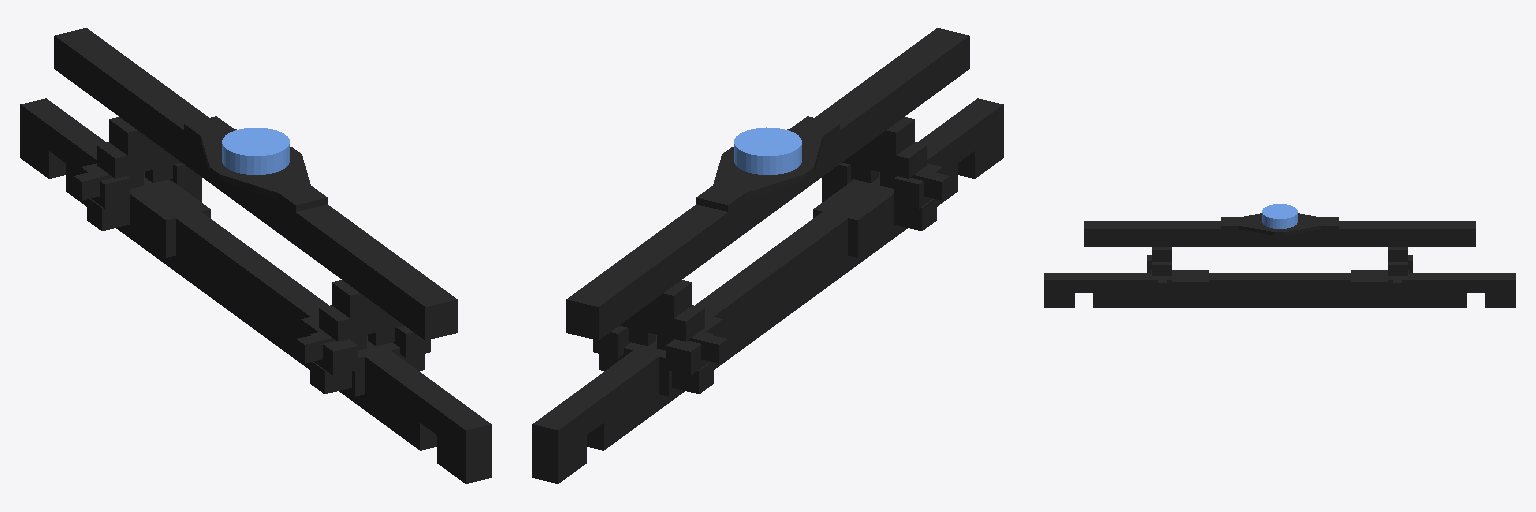
URDF robot description (tool__delta_assembly_task):
<?xml version="1.0" ?>
<robot name="tool__delta_assembly_task">

    <!-- Import Rviz colors -->
    <material name="Grey">
        <color rgba="0.2 0.2 0.2 1."/>
    </material>
    <material name="Orange">
        <color rgba="1.0 0.423529411765 0.0392156862745 0.5"/>
    </material>
    <material name="Blue">
        <color rgba="0.5 0.7 1.0 0.5"/>
    </material>
    <material name="beam_color">
        <color rgba="0.72 0.60 0.30 1.0"/>
    </material>


    <!-- Joint from Base to FT-Sensor Below -->
    <joint name="joint_ft" type="fixed">
        <parent link="base"/>
        <child link="ft_sensor"/>
        <origin rpy="0 0 0 " xyz="0.0 0.0 0.0"/>
        <dynamics damping="0.5"/>
    </joint>

    <!-- Joint from FT-Sensor to Gripper-Beam Below -->
    <joint name="joint_gripper" type="fixed">
        <parent link="ft_sensor"/>
        <child link="gripper_double_notch_beam"/>
        <origin rpy="0 0 0 " xyz="0.0 0.0 0.0"/>
        <dynamics damping="0.5"/>
    </joint>

    <!-- Joint from Gripper-Beam to Virtual Member Below -->
    <joint name="joint_member" type="fixed">
        <parent link="gripper_double_notch_beam"/>
        <child link="member"/>
        <!-- Offset 40 mm (beam half-depth) + 155 mm (beam offset from world origin)-->
        <origin rpy="0 0 0 " xyz="0.0 0.0 -0.195"/>
        <dynamics damping="0.5"/>
    </joint>


    <!-- Virtual Base Link -->
    <link name="base">
      <inertial>
          <origin rpy="0 0 0" xyz="0 0 0"/>
          <mass value="0.001"/>
          <inertia ixx="0.001" ixy="0" ixz="0" iyy="0.001" iyz="0" izz="0.001"/>
      </inertial>
    </link>

    <!-- Virtual Member Link to Computer Distance to Target -->
    <link name="member">
      <inertial>
          <origin rpy="0 0 0" xyz="0 0 0"/>
          <mass value="0.01"/>
          <inertia ixx="0.001" ixy="0" ixz="0" iyy="0.001" iyz="0" izz="0.001"/>
      </inertial>
    </link>

    <!-- FT-Sensor Link -->
    <link name="ft_sensor">
    <inertial>
          <mass value="1.964"/>
          <inertia ixx="0.001" ixy="0" ixz="0" iyy="0.001" iyz="0" izz="0.001"/>
    </inertial>
    <visual>
        <material name="Blue"/>
        <geometry>
          <mesh filename="sensor/meshes/visual/ft_sensor.stl"/>
        </geometry>
    </visual>
    <collision>
        <geometry>
          <mesh filename="sensor/meshes/collision/ft_sensor.stl"/>
        </geometry>
    </collision>
    </link>

    <!-- EF Link -->
    <link name="gripper_double_notch_beam">
        <inertial>
            <origin rpy="0 0 0" xyz="0.0 0.0 0.09963736"/>
            <mass value="8.56"/>
            <inertia ixx="0.01" ixy="0" ixz="0" iyy="0.01" iyz="0" izz="0.01"/>
        </inertial>
        <visual>
            <geometry>
                <mesh filename="gripper_double_notch_beam/meshes/visual/gripper_double_notch_beam.stl"/>
            </geometry>
            <material name="Grey"/>
        </visual>
        <collision>
            <geometry>
                <mesh filename="gripper_double_notch_beam/meshes/collision/gripper_00.stl"/>
            </geometry>
        </collision>
        <collision>
            <geometry>
                <mesh filename="gripper_double_notch_beam/meshes/collision/gripper_01.stl"/>
            </geometry>
        </collision>
        <collision>
            <geometry>
                <mesh filename="gripper_double_notch_beam/meshes/collision/gripper_02.stl"/>
            </geometry>
        </collision>
        <collision>
            <geometry>
                <mesh filename="gripper_double_notch_beam/meshes/collision/gripper_03.stl"/>
            </geometry>
        </collision>
        <collision>
            <geometry>
                <mesh filename="gripper_double_notch_beam/meshes/collision/gripper_04.stl"/>
            </geometry>
        </collision>
        <collision>
            <geometry>
                <mesh filename="gripper_double_notch_beam/meshes/collision/gripper_05.stl"/>
            </geometry>
        </collision>
        <collision>
            <geometry>
                <mesh filename="gripper_double_notch_beam/meshes/collision/gripper_06.stl"/>
            </geometry>
        </collision>
        <collision>
            <geometry>
                <mesh filename="gripper_double_notch_beam/meshes/collision/gripper_07.stl"/>
            </geometry>
        </collision>
        <collision>
            <geometry>
                <mesh filename="gripper_double_notch_beam/meshes/collision/gripper_08.stl"/>
            </geometry>
        </collision>
        <collision>
            <geometry>
                <mesh filename="gripper_double_notch_beam/meshes/collision/gripper_09.stl"/>
            </geometry>
        </collision>
        <collision>
            <geometry>
                <mesh filename="gripper_double_notch_beam/meshes/collision/gripper_10.stl"/>
            </geometry>
        </collision>
        <collision>
            <geometry>
                <mesh filename="gripper_double_notch_beam/meshes/collision/gripper_11.stl"/>
            </geometry>
        </collision>
        <collision>
            <geometry>
                <mesh filename="gripper_double_notch_beam/meshes/collision/gripper_12.stl"/>
            </geometry>
        </collision>
        <collision>
            <geometry>
                <mesh filename="gripper_double_notch_beam/meshes/collision/gripper_13.stl"/>
            </geometry>
        </collision>
        <collision>
            <geometry>
                <mesh filename="gripper_double_notch_beam/meshes/collision/gripper_14.stl"/>
            </geometry>
        </collision>
        <collision>
            <geometry>
                <mesh filename="gripper_double_notch_beam/meshes/collision/gripper_15.stl"/>
            </geometry>
        </collision>
        <collision>
            <geometry>
                <mesh filename="gripper_double_notch_beam/meshes/collision/gripper_16.stl"/>
            </geometry>
        </collision>
        <collision>
            <geometry>
                <mesh filename="gripper_double_notch_beam/meshes/collision/gripper_17.stl"/>
            </geometry>
        </collision>
        <collision>
            <geometry>
                <mesh filename="gripper_double_notch_beam/meshes/collision/gripper_18.stl"/>
            </geometry>
        </collision>
        <collision>
            <geometry>
                <mesh filename="gripper_double_notch_beam/meshes/collision/gripper_19.stl"/>
            </geometry>
        </collision>
        <collision>
            <geometry>
                <mesh filename="gripper_double_notch_beam/meshes/collision/gripper_20.stl"/>
            </geometry>
        </collision>
        <collision>
            <geometry>
                <mesh filename="gripper_double_notch_beam/meshes/collision/gripper_21.stl"/>
            </geometry>
        </collision>
        <collision>
            <geometry>
                <mesh filename="gripper_double_notch_beam/meshes/collision/beam_10C_00.stl"/>
            </geometry>
        </collision>
        <collision>
            <geometry>
                <mesh filename="gripper_double_notch_beam/meshes/collision/beam_10C_01.stl"/>
            </geometry>
        </collision>
        <collision>
            <geometry>
                <mesh filename="gripper_double_notch_beam/meshes/collision/beam_10C_02.stl"/>
            </geometry>
        </collision>
        <collision>
            <geometry>
                <mesh filename="gripper_double_notch_beam/meshes/collision/beam_10C_03.stl"/>
            </geometry>
        </collision>
        <collision>
            <geometry>
                <mesh filename="gripper_double_notch_beam/meshes/collision/beam_10C_04.stl"/>
            </geometry>
        </collision>
    </link>
</robot>

--- What the picture shows (computed from the rendered views, not written in the file) ---
The picture shows the robot from 3 angles, left to right: view 1: azimuth 30°, elevation 25°; view 2: azimuth 150°, elevation 25°; view 3: azimuth 270°, elevation 25°; orthographic projection.
Robot: tool__delta_assembly_task — 4 links, 3 joints (3 fixed); root link base; default pose: all joints at 0.
Links seen in each view (by area): view 1: gripper_double_notch_beam, ft_sensor; view 2: gripper_double_notch_beam, ft_sensor; view 3: gripper_double_notch_beam, ft_sensor.
Boxes of the visible links, left/top/right/bottom form: gripper_double_notch_beam: left=20, top=28, right=491, bottom=483; ft_sensor: left=222, top=128, right=289, bottom=174; gripper_double_notch_beam: left=532, top=28, right=1003, bottom=483; ft_sensor: left=734, top=127, right=801, bottom=174; gripper_double_notch_beam: left=1044, top=213, right=1515, bottom=307; ft_sensor: left=1262, top=204, right=1297, bottom=228.
Size in the robot's own frame: 0.208 by 1.2 by 0.262 metres.
2 mesh visuals loaded from 2 distinct referenced files (2 binary STL).
